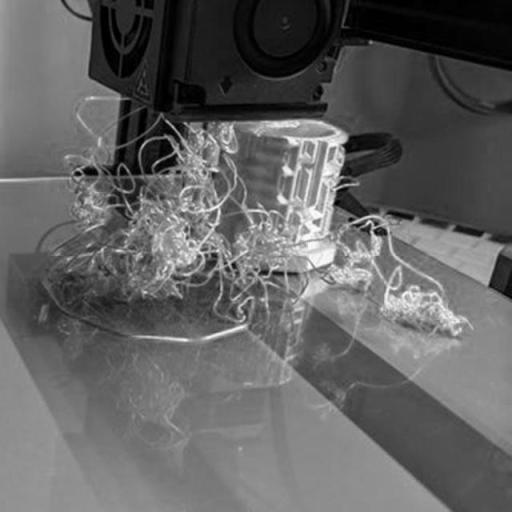spaghetti_and_stringing: (42, 95, 288, 323), (296, 214, 474, 338)
